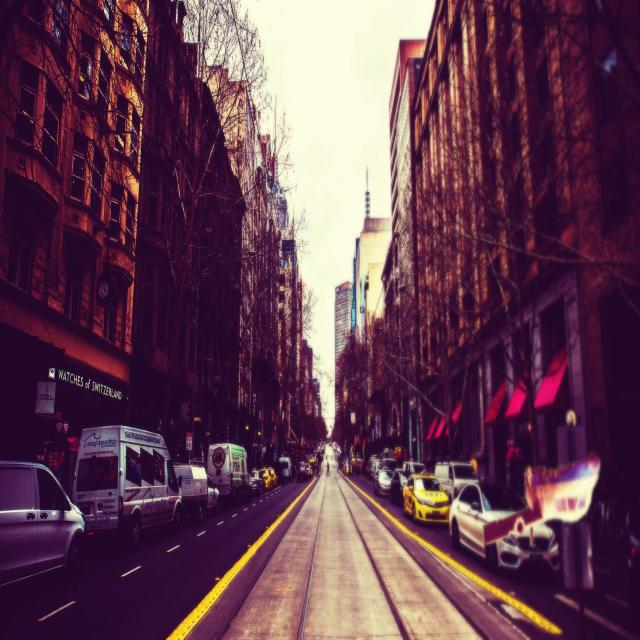airplane: (483, 449, 601, 548)
